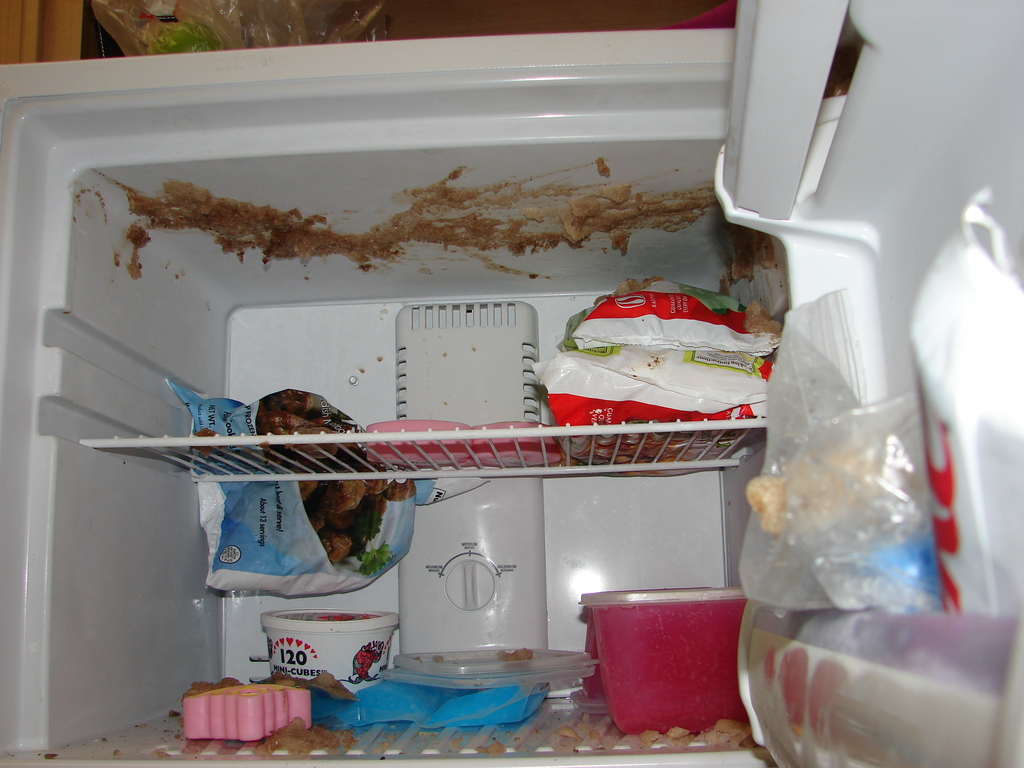refrigerator door: (838, 183, 1024, 741)
